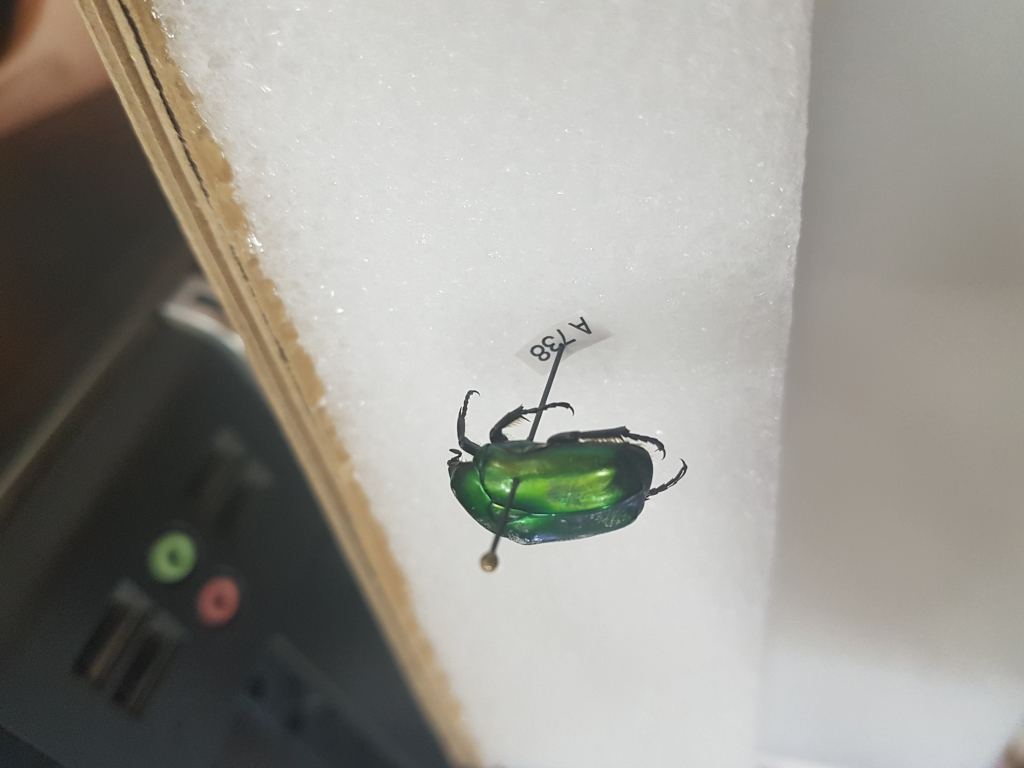Protaetia_cuprea_ignicollis: (437, 382, 693, 546)
